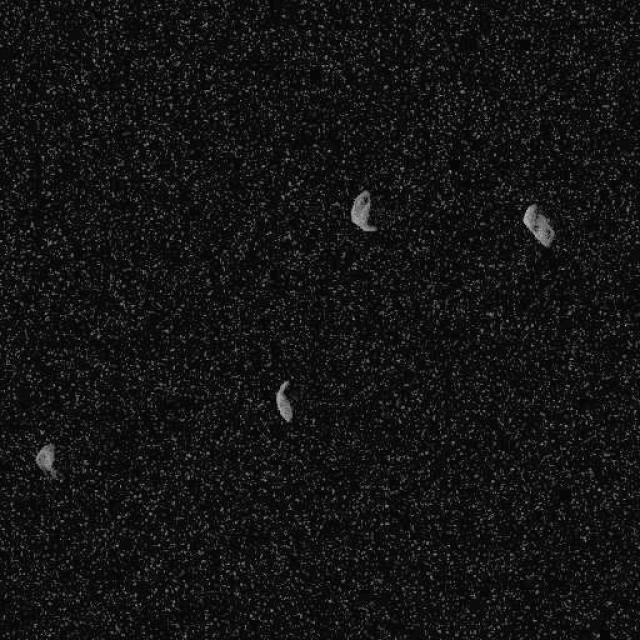D2: (521, 201, 555, 249), (348, 188, 378, 232), (34, 441, 58, 480), (275, 378, 294, 422)
